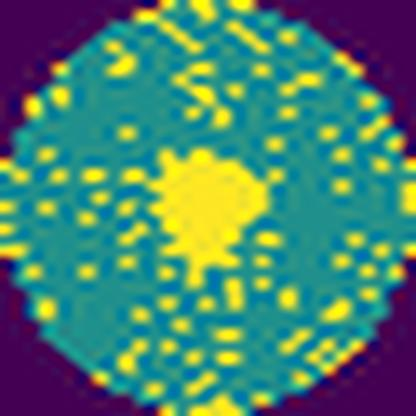Center: (153, 150, 271, 268)
